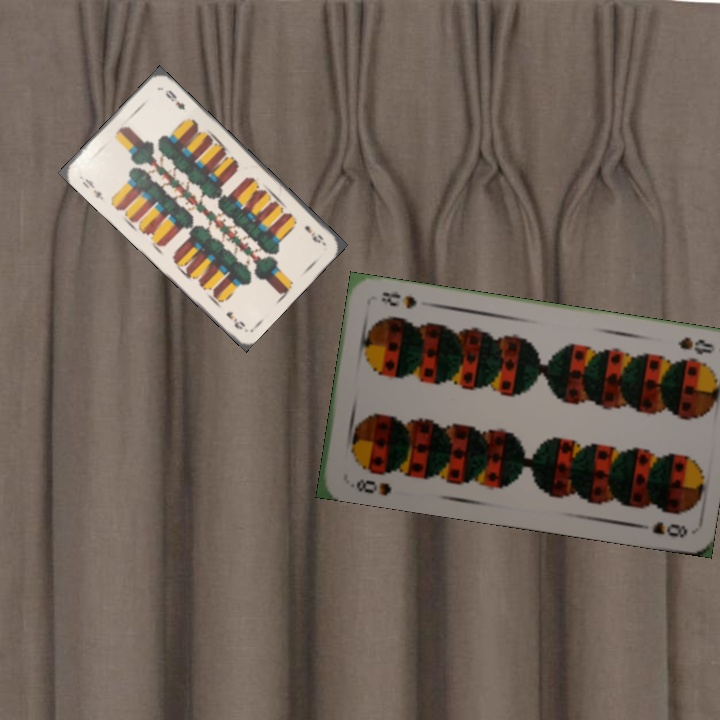E9: (78, 174, 106, 203), (300, 221, 327, 247)
S8: (674, 333, 717, 358), (352, 475, 394, 499)
